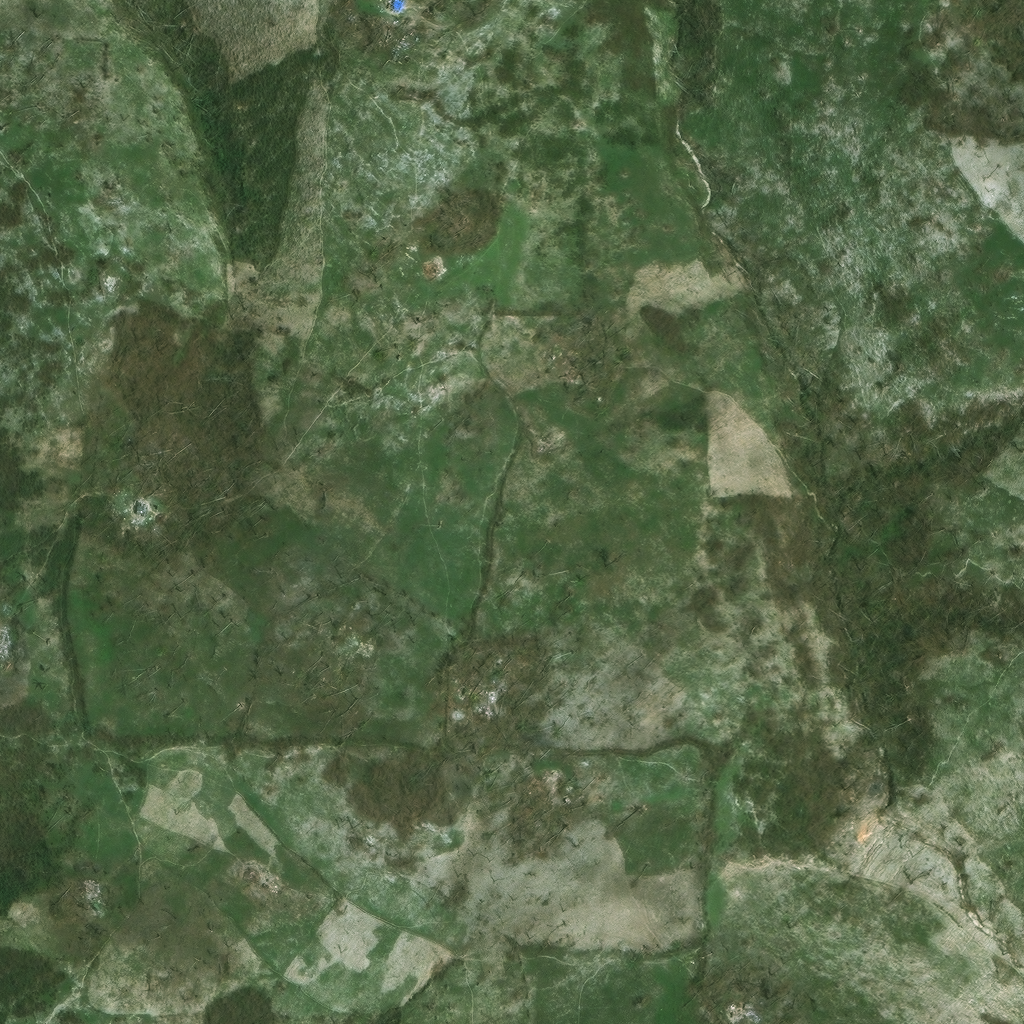destroyed: (240, 862, 263, 882), (545, 769, 565, 789), (353, 638, 374, 656), (92, 279, 109, 296), (425, 259, 443, 275), (727, 1001, 744, 1016), (455, 687, 467, 701), (422, 8, 433, 19), (476, 704, 485, 715), (406, 242, 413, 252), (92, 879, 99, 887), (64, 840, 71, 847)
major_damage: (154, 487, 170, 503), (388, 0, 403, 11)
unclassified: (0, 626, 12, 641)
